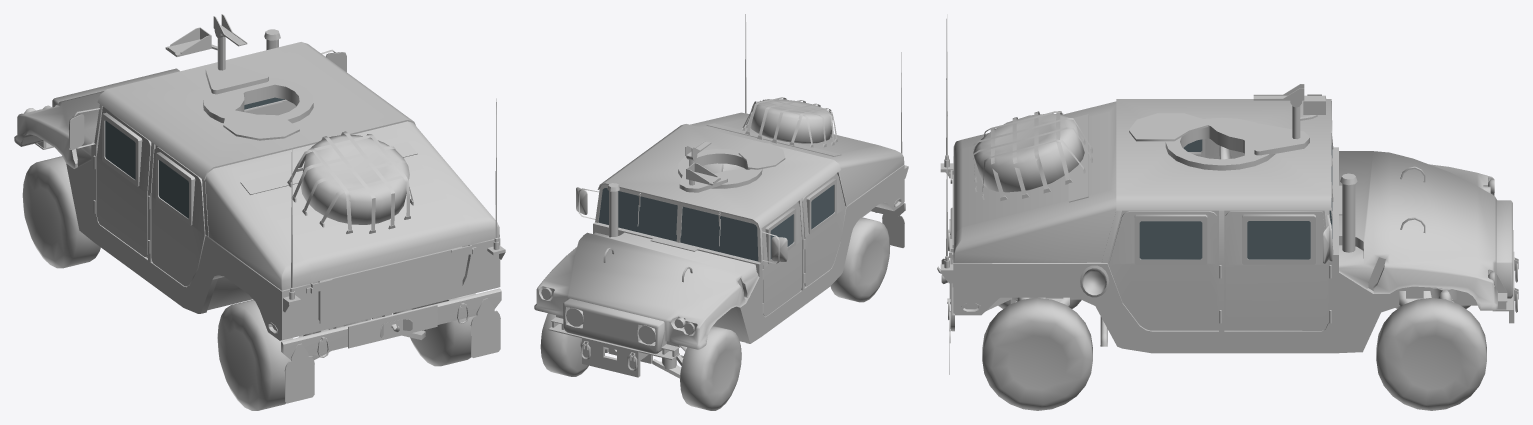
3 views of the same model, side by side, from view 1: azimuth 30°, elevation 25°; view 2: azimuth 150°, elevation 25°; view 3: azimuth 270°, elevation 25° (orthographic). The views are drawn at different scales.
Parts seen in each view (by area): view 1: outs, back, wheel, wheel_LB, wheel_LF, door_LF, door_LB, wheel_RB, glass_LF, glass_LB, under; view 2: outs, glass, wheel_LF, wheel_LB, back, door_LB, door_LF, wheel, wheel_RF, glass_LB, under, glass_LF; view 3: outs, wheel_RF, wheel_RB, door_RF, door_RB, back, wheel, glass_FR, glass_BR, under.
Boxes of the visible parts, bbox=[...] form: outs: bbox=[14, 14, 505, 403]; back: bbox=[234, 130, 470, 282]; wheel: bbox=[300, 134, 409, 224]; wheel_LB: bbox=[217, 299, 292, 410]; wheel_LF: bbox=[22, 156, 100, 268]; door_LF: bbox=[93, 107, 151, 256]; door_LB: bbox=[148, 147, 206, 286]; wheel_RB: bbox=[410, 293, 475, 366]; glass_LF: bbox=[105, 120, 135, 179]; glass_LB: bbox=[159, 160, 188, 218]; under: bbox=[298, 298, 456, 360]; outs: bbox=[534, 14, 908, 377]; glass: bbox=[598, 188, 758, 261]; wheel_LF: bbox=[680, 326, 741, 410]; wheel_LB: bbox=[830, 217, 890, 302]; back: bbox=[704, 97, 878, 157]; door_LB: bbox=[802, 174, 845, 286]; door_LF: bbox=[761, 202, 801, 316]; wheel: bbox=[750, 99, 833, 143]; wheel_RF: bbox=[540, 313, 588, 376]; glass_LB: bbox=[811, 185, 834, 229]; under: bbox=[580, 210, 871, 378]; glass_LF: bbox=[770, 214, 793, 258]; outs: bbox=[937, 14, 1518, 374]; wheel_RF: bbox=[1376, 298, 1486, 410]; wheel_RB: bbox=[982, 297, 1092, 410]; door_RF: bbox=[1225, 211, 1331, 330]; door_RB: bbox=[1109, 211, 1221, 330]; back: bbox=[953, 111, 1110, 244]; wheel: bbox=[973, 113, 1084, 192]; glass_FR: bbox=[1247, 221, 1310, 259]; glass_BR: bbox=[1139, 221, 1202, 259]; under: bbox=[955, 286, 1477, 346].
Size of the model in its own units: 333 by 334 by 597.
